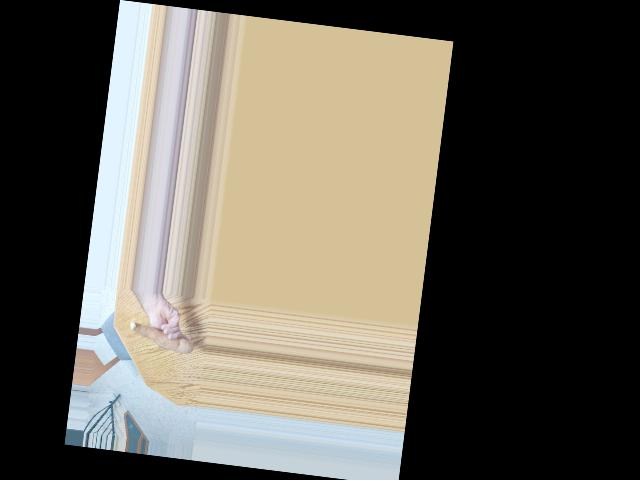sweet_potato: (125, 319, 193, 357)
